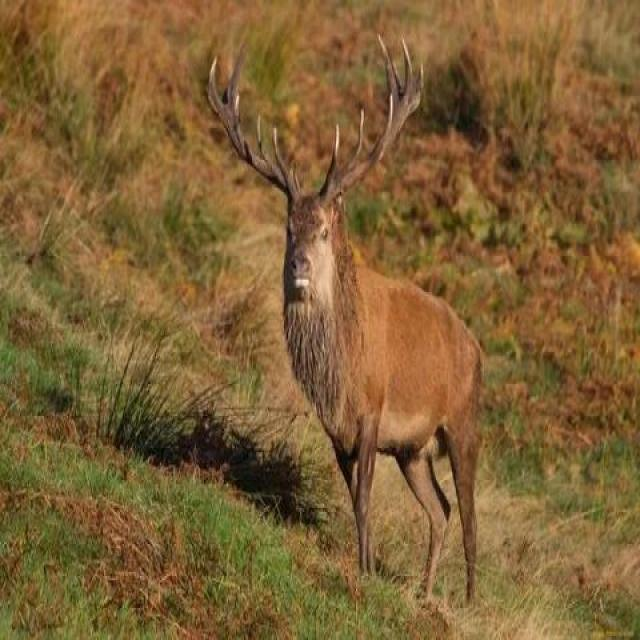deer: (215, 65, 550, 608)
